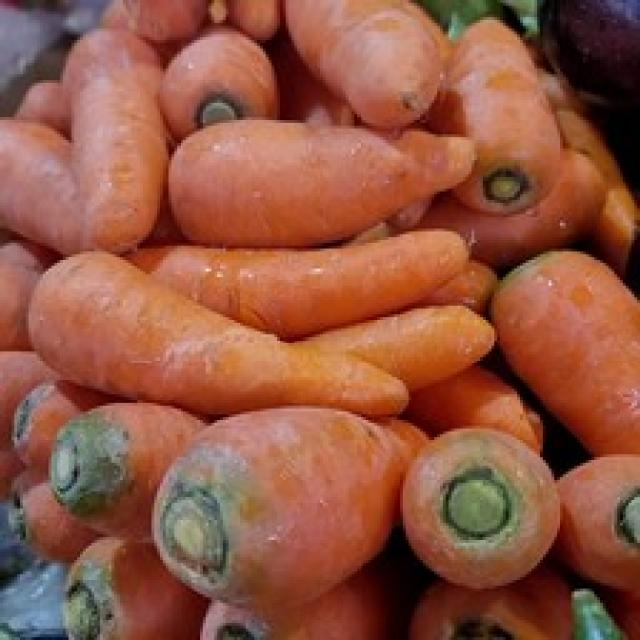Fresh_Carrot: (0, 251, 411, 408), (173, 109, 481, 242), (485, 248, 640, 456), (448, 18, 563, 193)
